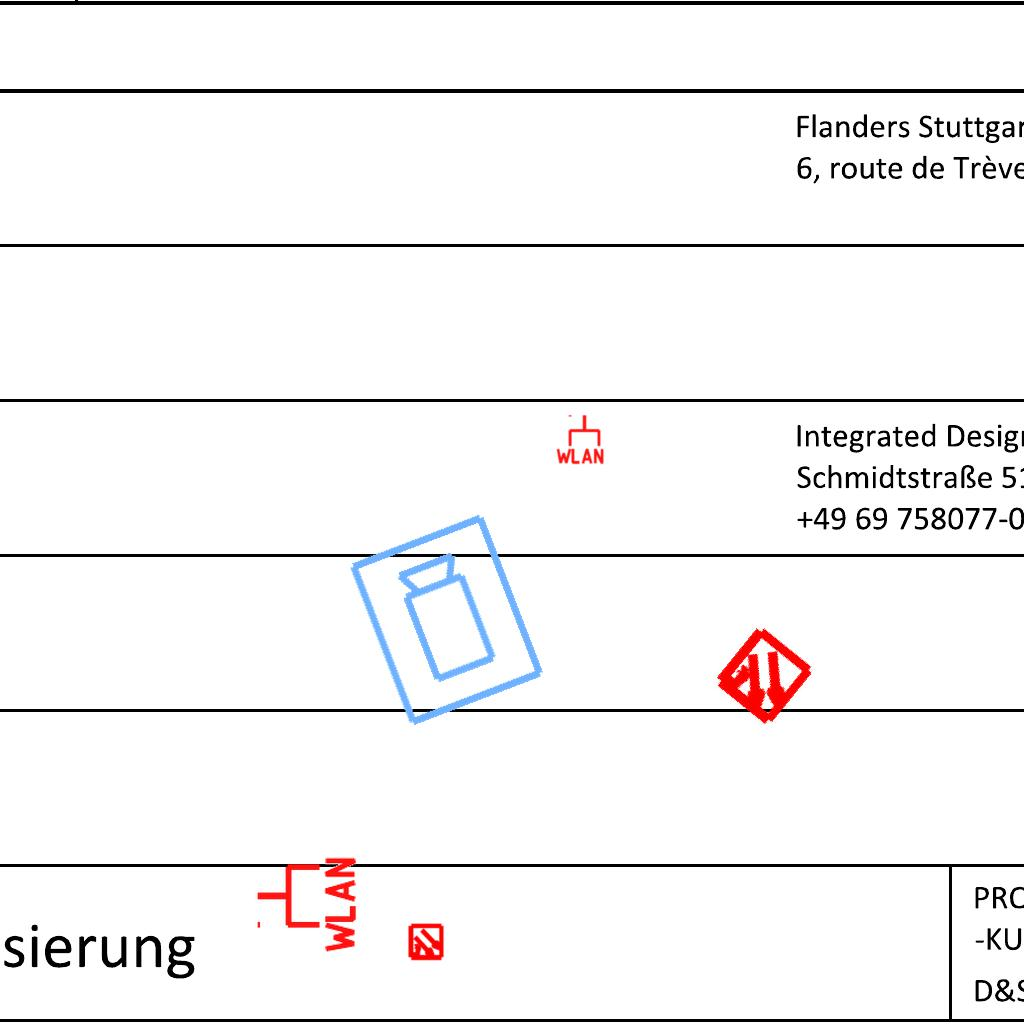KFO_Kamera_mit_Festobjektiv: (343, 507, 553, 733)
OT_Multisensormelder_(Kombination_RMO_WMD): (683, 598, 842, 757), (398, 915, 454, 971)
WLAN: (253, 853, 358, 957), (554, 413, 606, 465)
